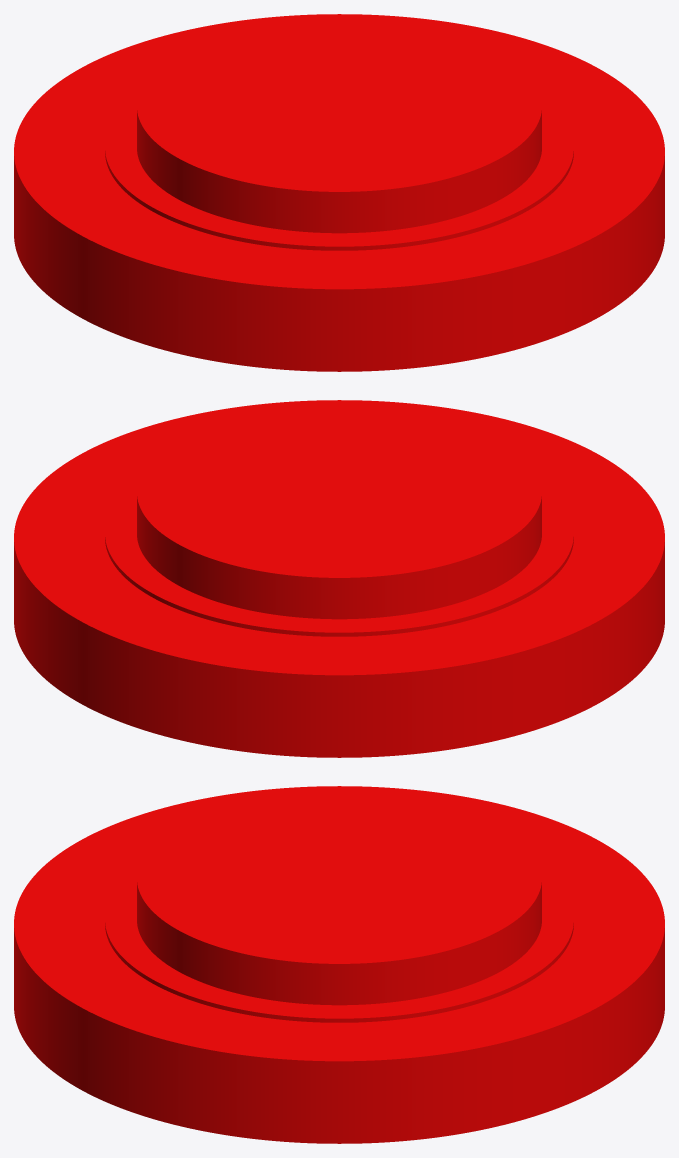
The model's file is V5_SM1 Press Outer.obj.
3 views of the same model, one above another, from view 1: azimuth 30°, elevation 25°; view 2: azimuth 150°, elevation 25°; view 3: azimuth 270°, elevation 25° (orthographic).
Parts seen in each view (by area): view 1: Solid1:12; view 2: Solid1:12; view 3: Solid1:12.
Part boxes in pixels (bbox=[...]): Solid1:12: bbox=[14, 14, 664, 371]; Solid1:12: bbox=[14, 400, 664, 757]; Solid1:12: bbox=[14, 786, 664, 1143].
Size of the model in its own units: 35.75 by 7.75 by 35.74.
